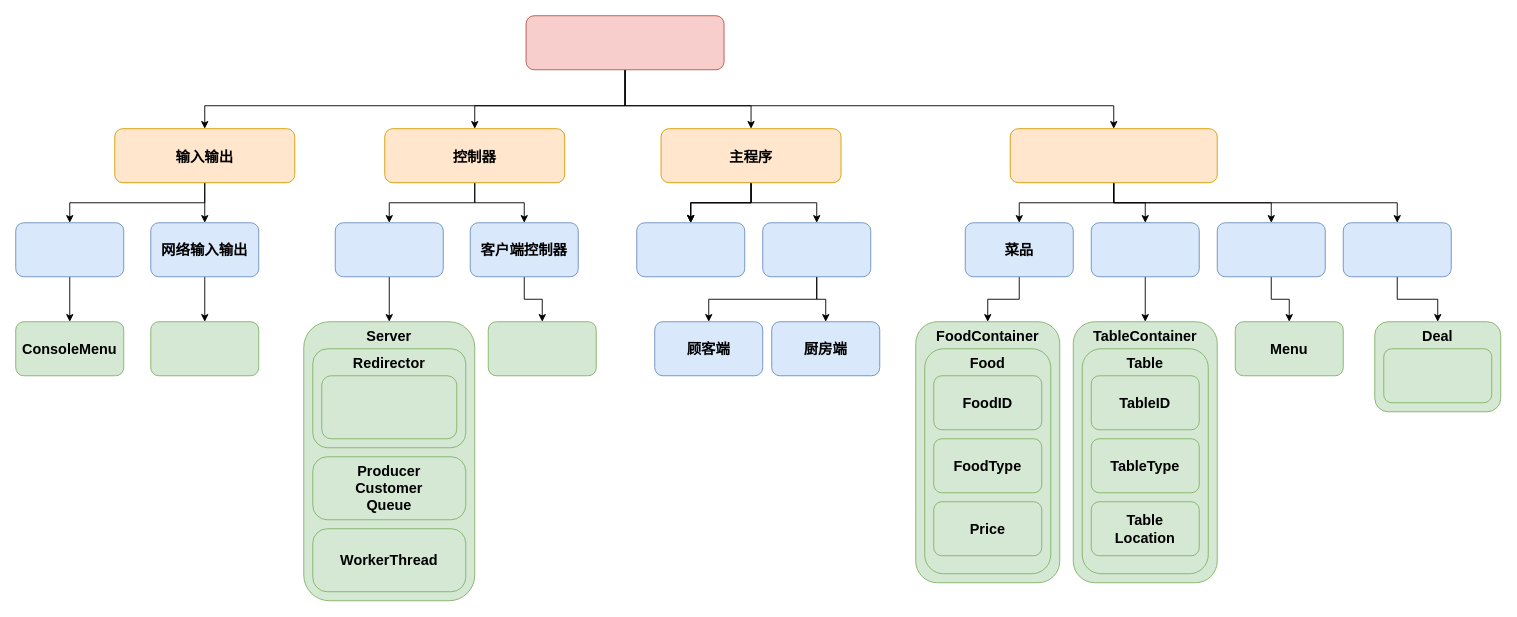
This 1517x617 diagram has some shape labels left out. The shapes that lost their labels are listed below. From the top down, each one's centre as x and y in pixels, then its label:
At point (624, 42): "吃了没 Appetito".
At point (1113, 155): "餐厅实用类".
At point (69, 249): "用户输入输出".
At point (388, 249): "服务端控制器".
At point (690, 249): "服务端".
At point (816, 249): "客户端".
At point (1144, 249): "桌位".
At point (1270, 249): "菜单".
At point (1396, 249): "订单".
At point (204, 348): "NetworkIO".
At point (541, 348): "Client".
At point (1437, 375): "Order".
At point (389, 407): "ConnectedClient".
